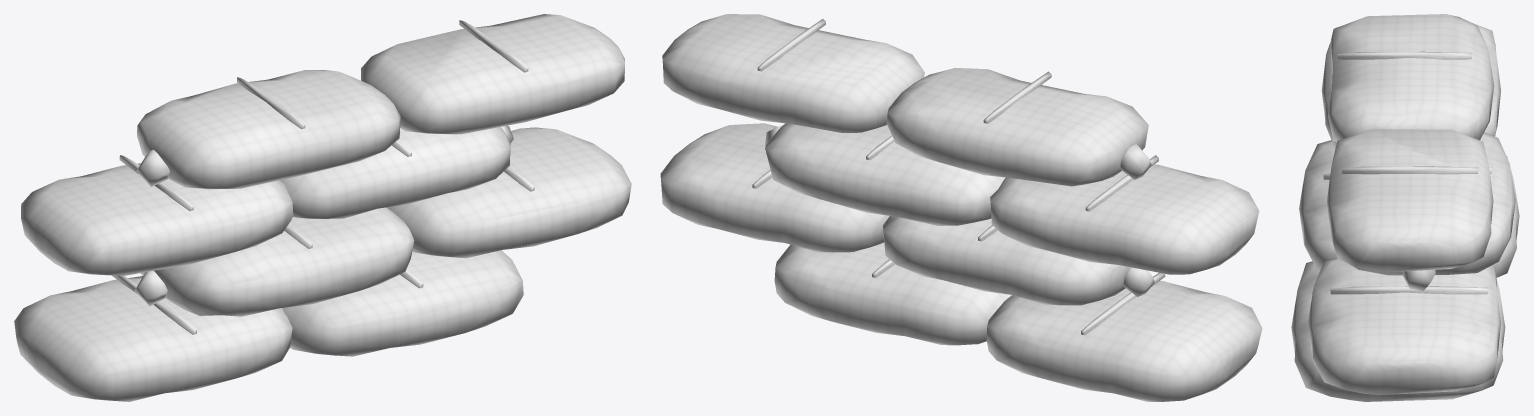
File: sandbags_1.obj
The picture shows the model from 3 angles, left to right: view 1: azimuth 30°, elevation 25°; view 2: azimuth 150°, elevation 25°; view 3: azimuth 270°, elevation 25°; orthographic projection. The views are drawn at different scales.
Parts seen in each view (by area): view 1: sandbags_1_component_01_stage_1, sandbags_1_component_19_stage_1, sandbags_1_component_22_stage_1, sandbags_1_component_13_stage_1, sandbags_1_component_10_stage_1, sandbags_1_component_07_stage_1, sandbags_1_component_04_stage_1, sandbags_1_component_16_stage_1, sandbags_1_component_20_stage_1, sandbags_1_component_08_stage_1, sandbags_1_component_24_stage_1, sandbags_1_component_21_stage_1 (+1 smaller); view 2: sandbags_1_component_01_stage_1, sandbags_1_component_19_stage_1, sandbags_1_component_22_stage_1, sandbags_1_component_13_stage_1, sandbags_1_component_10_stage_1, sandbags_1_component_16_stage_1, sandbags_1_component_04_stage_1, sandbags_1_component_07_stage_1, sandbags_1_component_20_stage_1, sandbags_1_component_08_stage_1, sandbags_1_component_24_stage_1, sandbags_1_component_21_stage_1 (+1 smaller); view 3: sandbags_1_component_10_stage_1, sandbags_1_component_22_stage_1, sandbags_1_component_19_stage_1, sandbags_1_component_04_stage_1, sandbags_1_component_16_stage_1, sandbags_1_component_07_stage_1, sandbags_1_component_13_stage_1, sandbags_1_component_12_stage_1, sandbags_1_component_24_stage_1, sandbags_1_component_21_stage_1, sandbags_1_component_01_stage_1, sandbags_1_component_17_stage_1.
Boxes of the visible parts, left/top/right/bottom form: sandbags_1_component_01_stage_1: left=14, top=276, right=292, bottom=401; sandbags_1_component_19_stage_1: left=137, top=70, right=400, bottom=189; sandbags_1_component_22_stage_1: left=361, top=14, right=624, bottom=134; sandbags_1_component_13_stage_1: left=21, top=163, right=293, bottom=275; sandbags_1_component_10_stage_1: left=386, top=127, right=631, bottom=258; sandbags_1_component_07_stage_1: left=140, top=207, right=414, bottom=316; sandbags_1_component_04_stage_1: left=282, top=250, right=523, bottom=356; sandbags_1_component_16_stage_1: left=279, top=127, right=510, bottom=218; sandbags_1_component_20_stage_1: left=136, top=149, right=169, bottom=186; sandbags_1_component_08_stage_1: left=134, top=271, right=167, bottom=306; sandbags_1_component_24_stage_1: left=459, top=20, right=528, bottom=72; sandbags_1_component_21_stage_1: left=237, top=77, right=305, bottom=129; sandbags_1_component_01_stage_1: left=986, top=280, right=1262, bottom=401; sandbags_1_component_19_stage_1: left=886, top=68, right=1148, bottom=186; sandbags_1_component_22_stage_1: left=662, top=14, right=924, bottom=132; sandbags_1_component_13_stage_1: left=990, top=164, right=1259, bottom=274; sandbags_1_component_10_stage_1: left=660, top=123, right=889, bottom=252; sandbags_1_component_16_stage_1: left=765, top=123, right=1005, bottom=225; sandbags_1_component_04_stage_1: left=774, top=243, right=1011, bottom=345; sandbags_1_component_07_stage_1: left=883, top=216, right=1130, bottom=305; sandbags_1_component_20_stage_1: left=1120, top=143, right=1151, bottom=179; sandbags_1_component_08_stage_1: left=1123, top=267, right=1154, bottom=296; sandbags_1_component_24_stage_1: left=757, top=19, right=825, bottom=71; sandbags_1_component_21_stage_1: left=983, top=71, right=1051, bottom=123; sandbags_1_component_10_stage_1: left=1308, top=257, right=1500, bottom=395; sandbags_1_component_22_stage_1: left=1327, top=129, right=1493, bottom=272; sandbags_1_component_19_stage_1: left=1328, top=14, right=1494, bottom=142; sandbags_1_component_04_stage_1: left=1291, top=261, right=1505, bottom=401; sandbags_1_component_16_stage_1: left=1347, top=132, right=1515, bottom=275; sandbags_1_component_07_stage_1: left=1299, top=140, right=1336, bottom=270; sandbags_1_component_13_stage_1: left=1321, top=23, right=1500, bottom=148; sandbags_1_component_12_stage_1: left=1330, top=286, right=1488, bottom=294; sandbags_1_component_24_stage_1: left=1342, top=166, right=1478, bottom=174; sandbags_1_component_21_stage_1: left=1337, top=51, right=1472, bottom=59; sandbags_1_component_01_stage_1: left=1493, top=156, right=1519, bottom=277; sandbags_1_component_17_stage_1: left=1402, top=270, right=1435, bottom=290.
Size of the model in its own units: 1.26 by 0.5234 by 0.4234.
